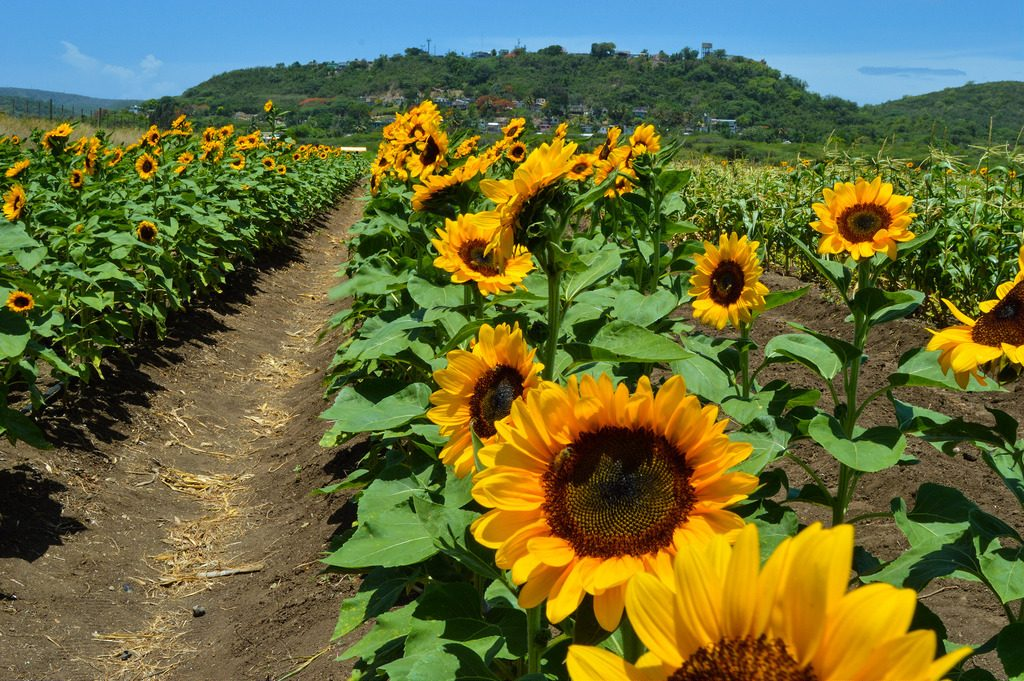girasol: (522, 370, 753, 598), (411, 317, 560, 461), (806, 162, 921, 273), (675, 226, 786, 340)
